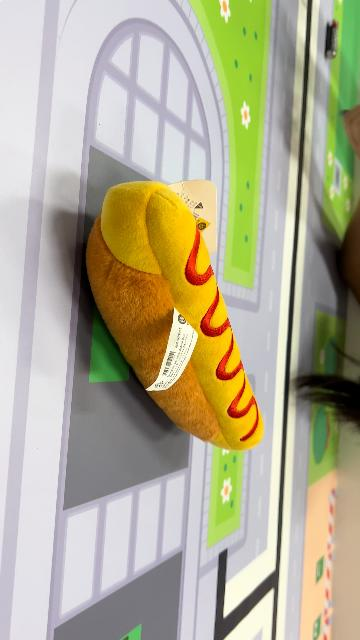hotdog: (86, 180, 266, 454)
